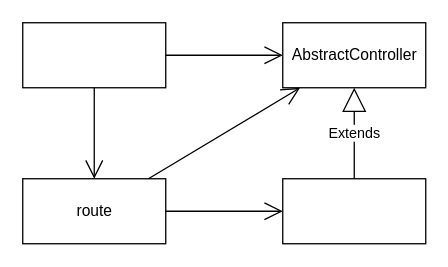
This 448x267 diagram has some shape labels left out. Each missing label, with the centre of its shape:
"Application" belongs at [93,54].
"HelloController" belongs at [353,210].
